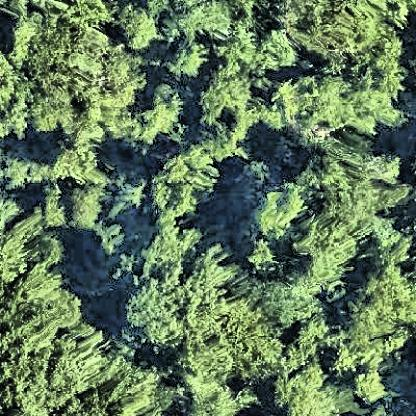tree-top: (1, 248, 113, 416), (5, 9, 121, 141), (114, 227, 228, 349), (260, 70, 394, 149), (303, 146, 382, 276), (267, 1, 392, 62), (180, 306, 275, 382), (338, 263, 416, 345), (198, 65, 258, 159), (147, 149, 217, 226), (239, 269, 318, 332), (270, 369, 346, 416), (134, 86, 188, 150), (249, 184, 305, 243), (50, 144, 121, 186), (118, 3, 168, 50), (63, 184, 107, 231), (171, 40, 214, 84), (1, 154, 40, 196), (353, 369, 388, 405)
